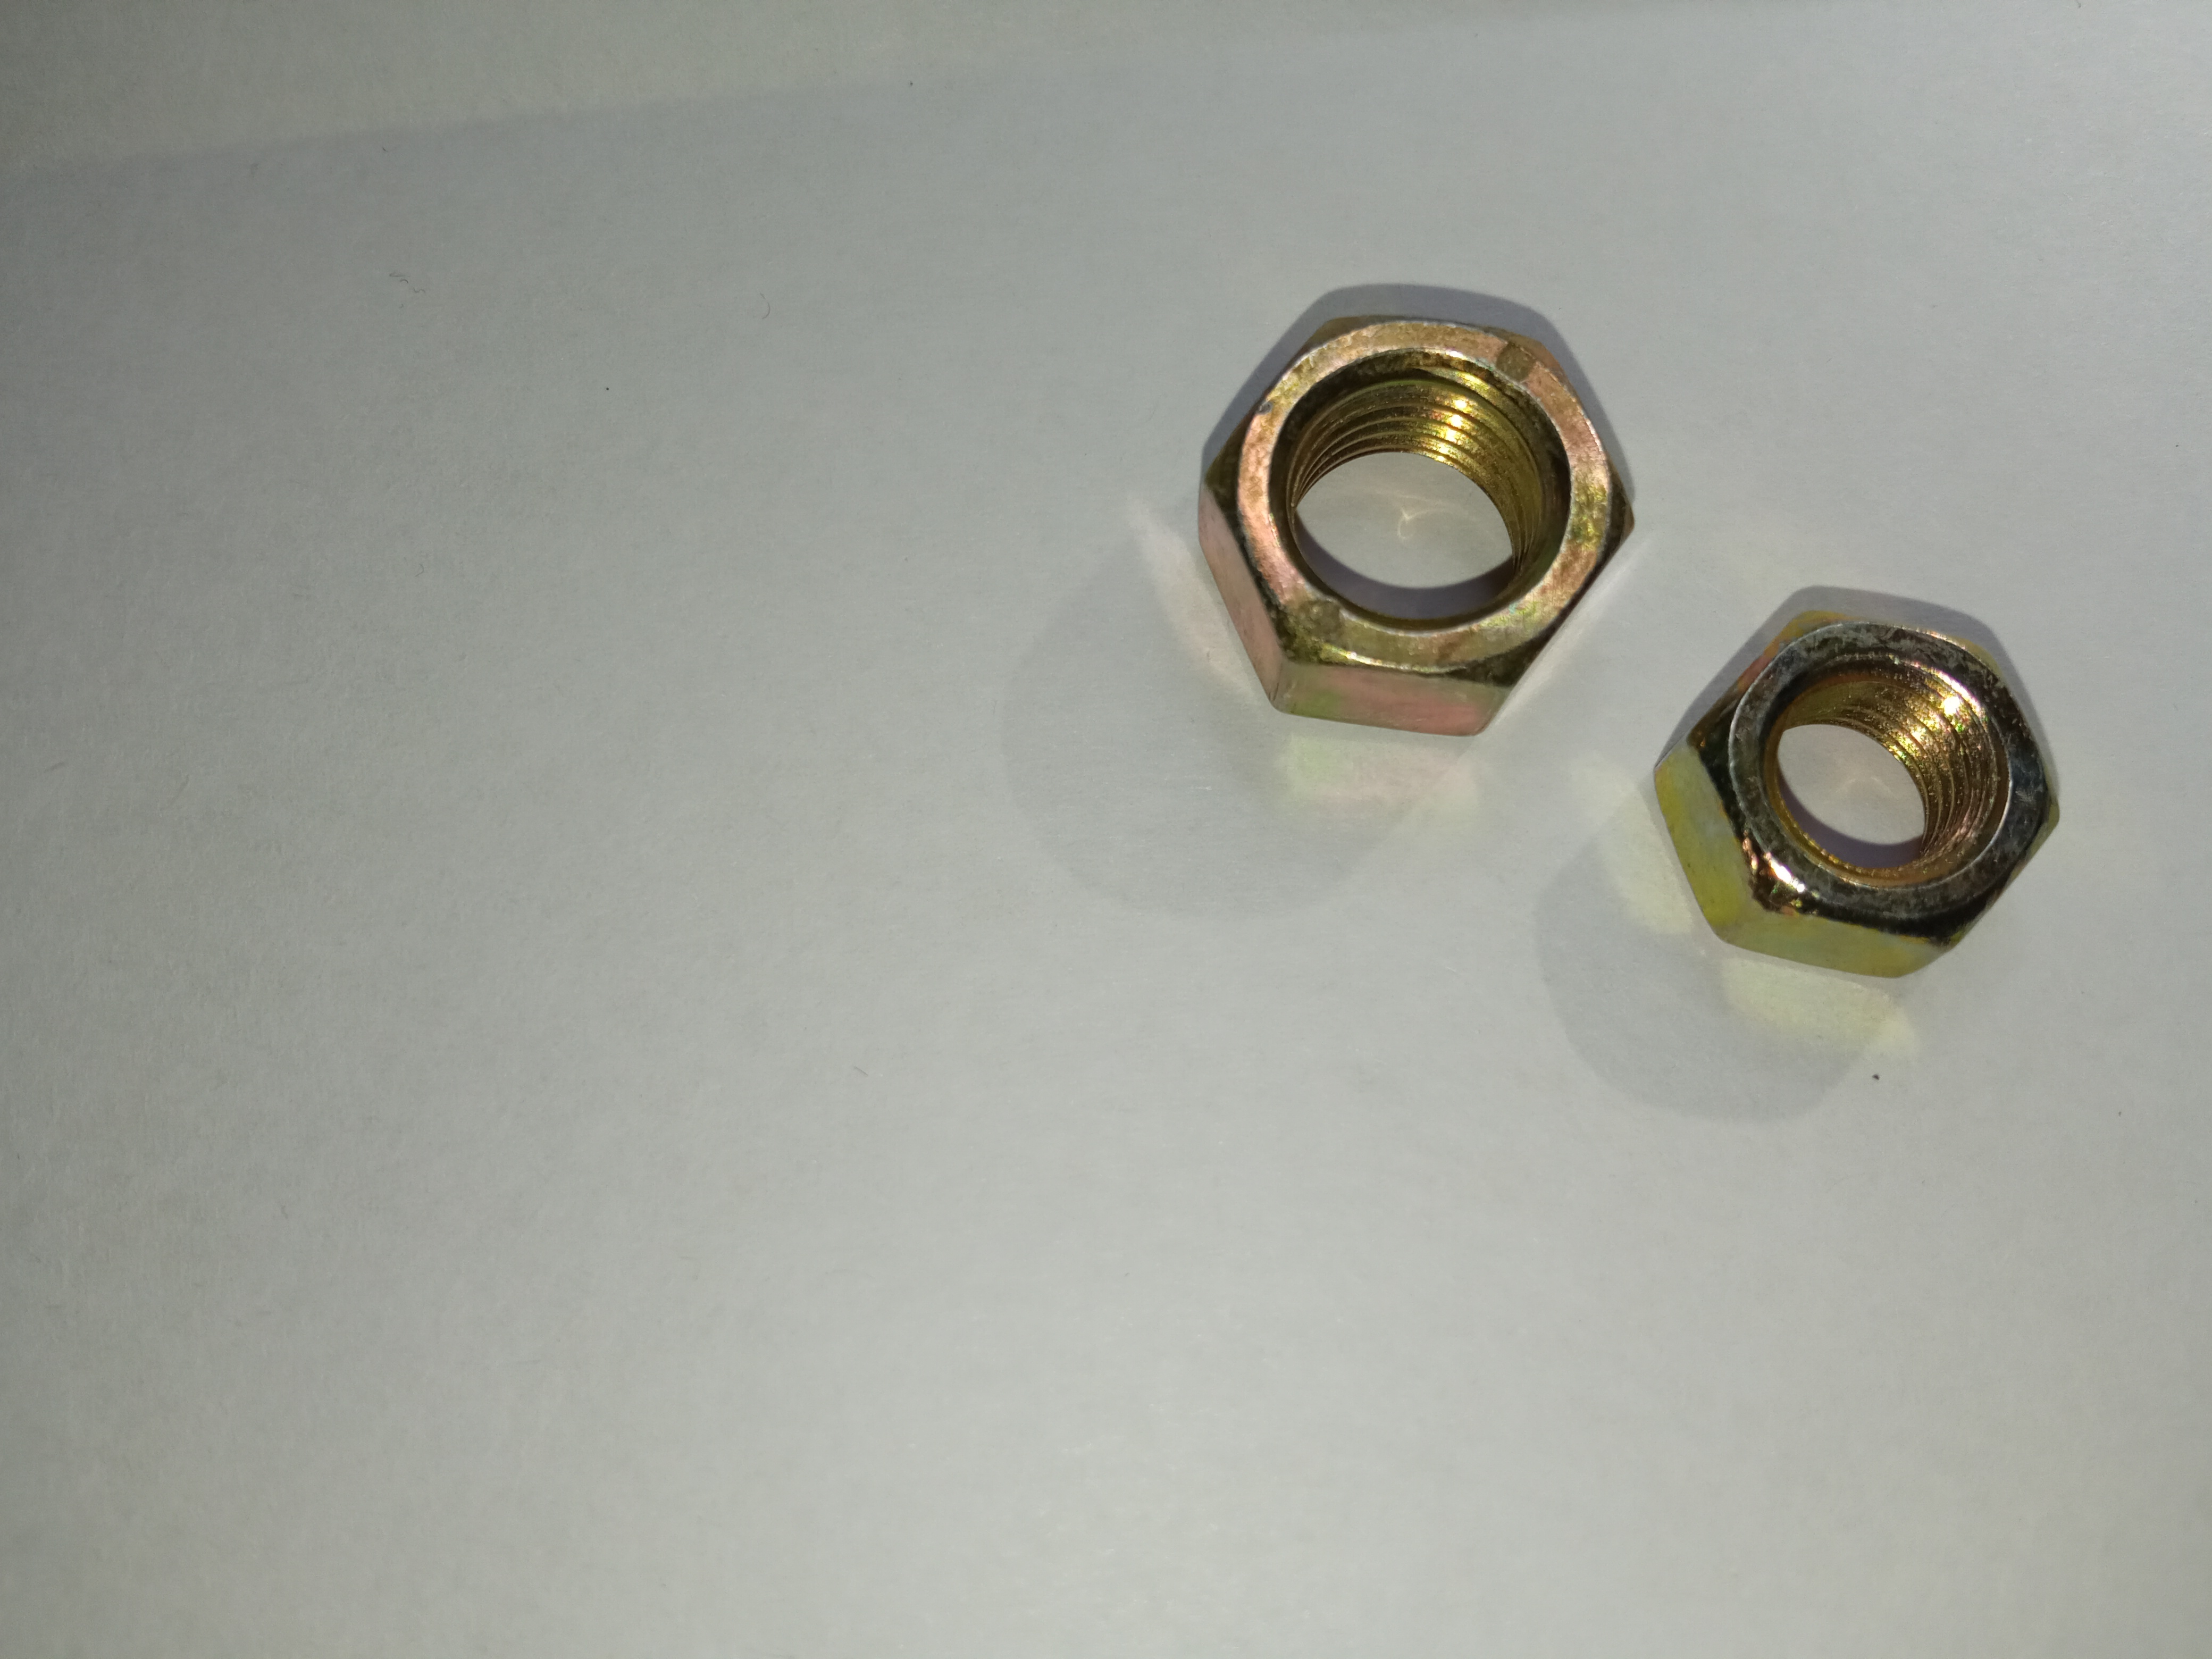m10: (1202, 314, 1609, 713)
m8: (1674, 619, 2067, 976)
